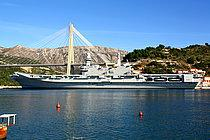MIL_Ship: (9, 54, 202, 90)
